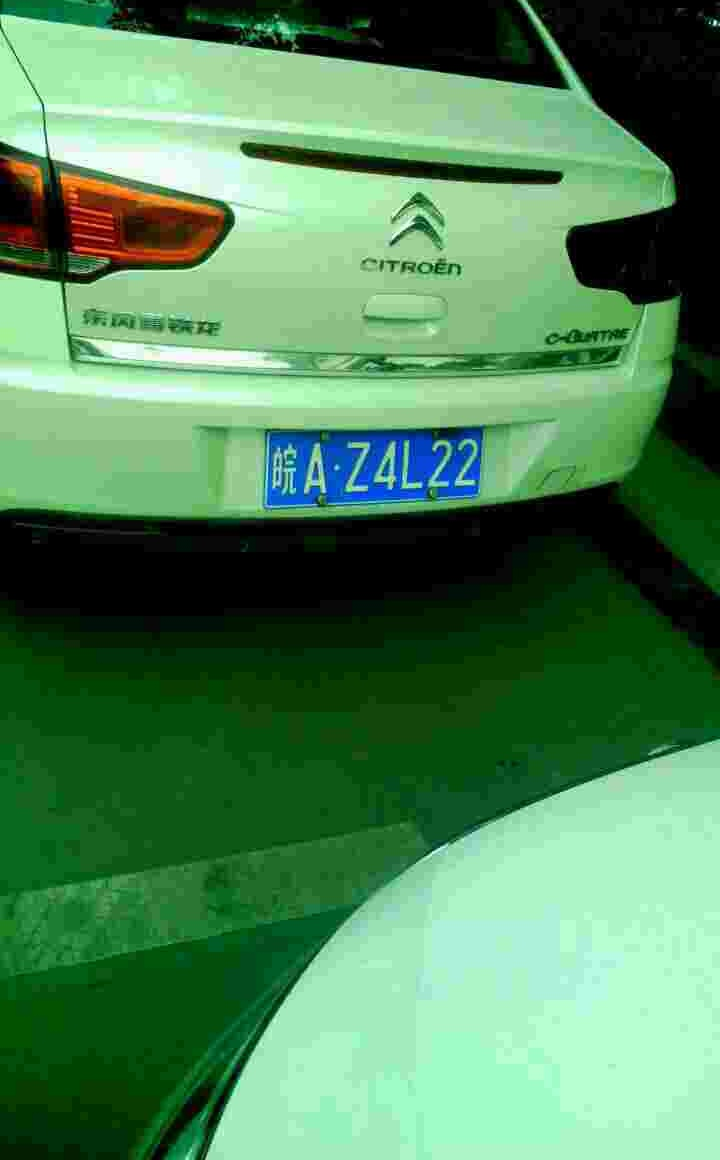plate: (270, 421, 494, 510)
